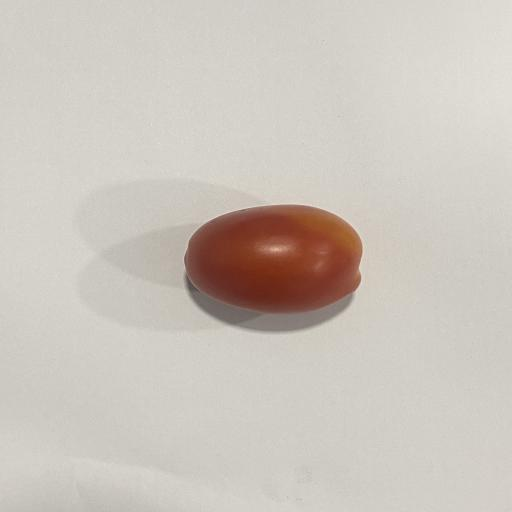ripe: (185, 205, 362, 314)
